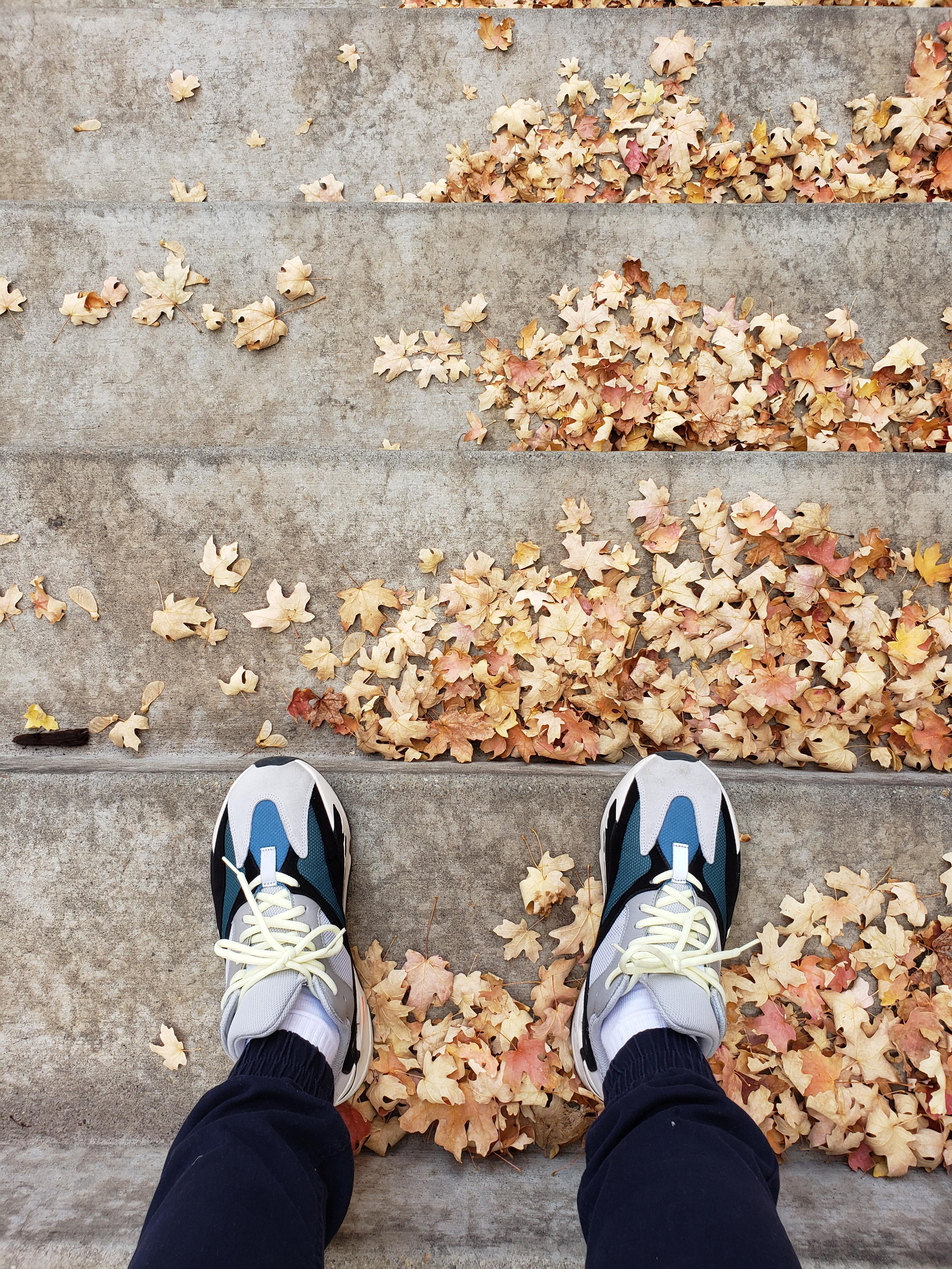sneaker: (133, 752, 391, 1136), (521, 752, 759, 1105)
